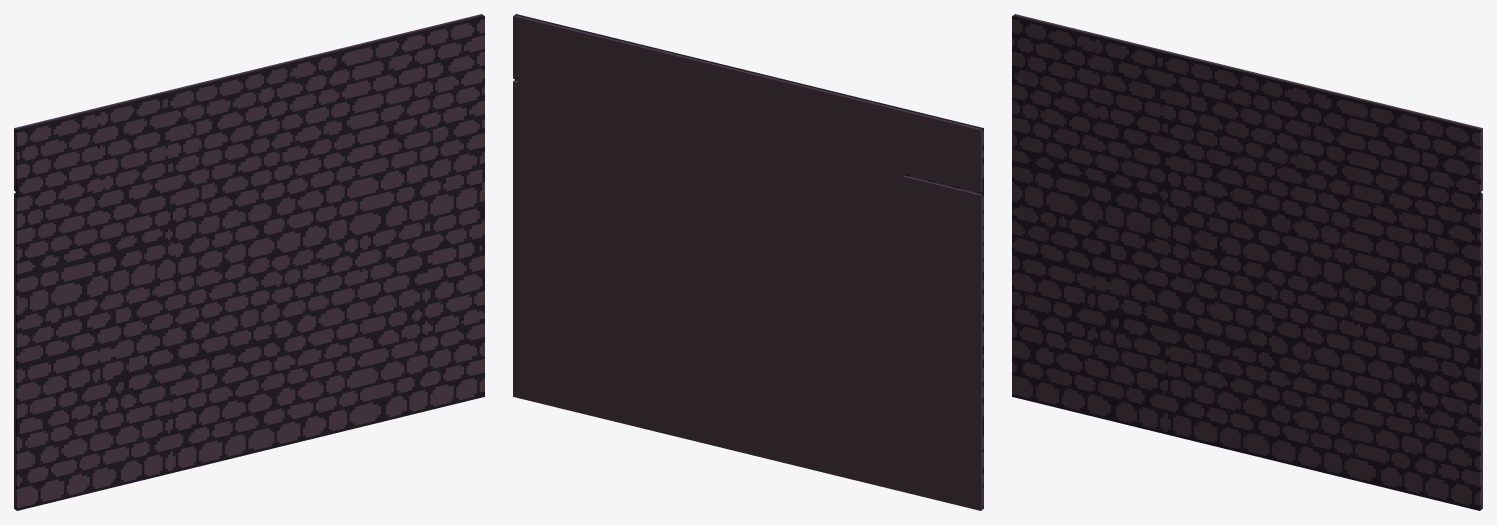
File: Wall.obj
The picture shows the model from 3 angles, left to right: view 1: azimuth 30°, elevation 25°; view 2: azimuth 150°, elevation 25°; view 3: azimuth 330°, elevation 25°; orthographic projection.
Bounding box in the file's own units: 18 × 14 × 0.2.
1 material, 1 textured.
